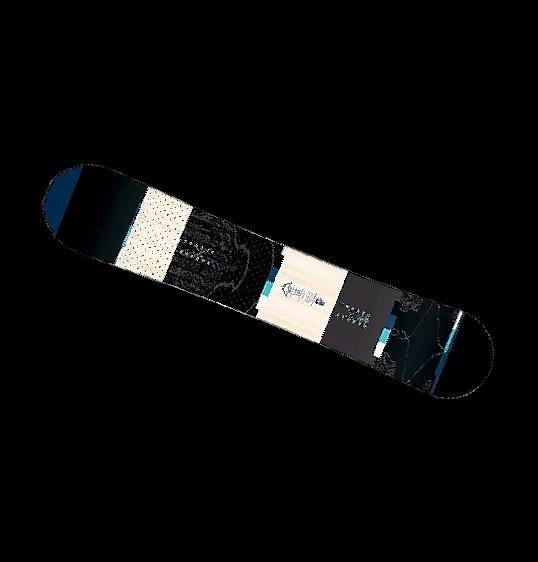Snowboard: (40, 162, 494, 400)
